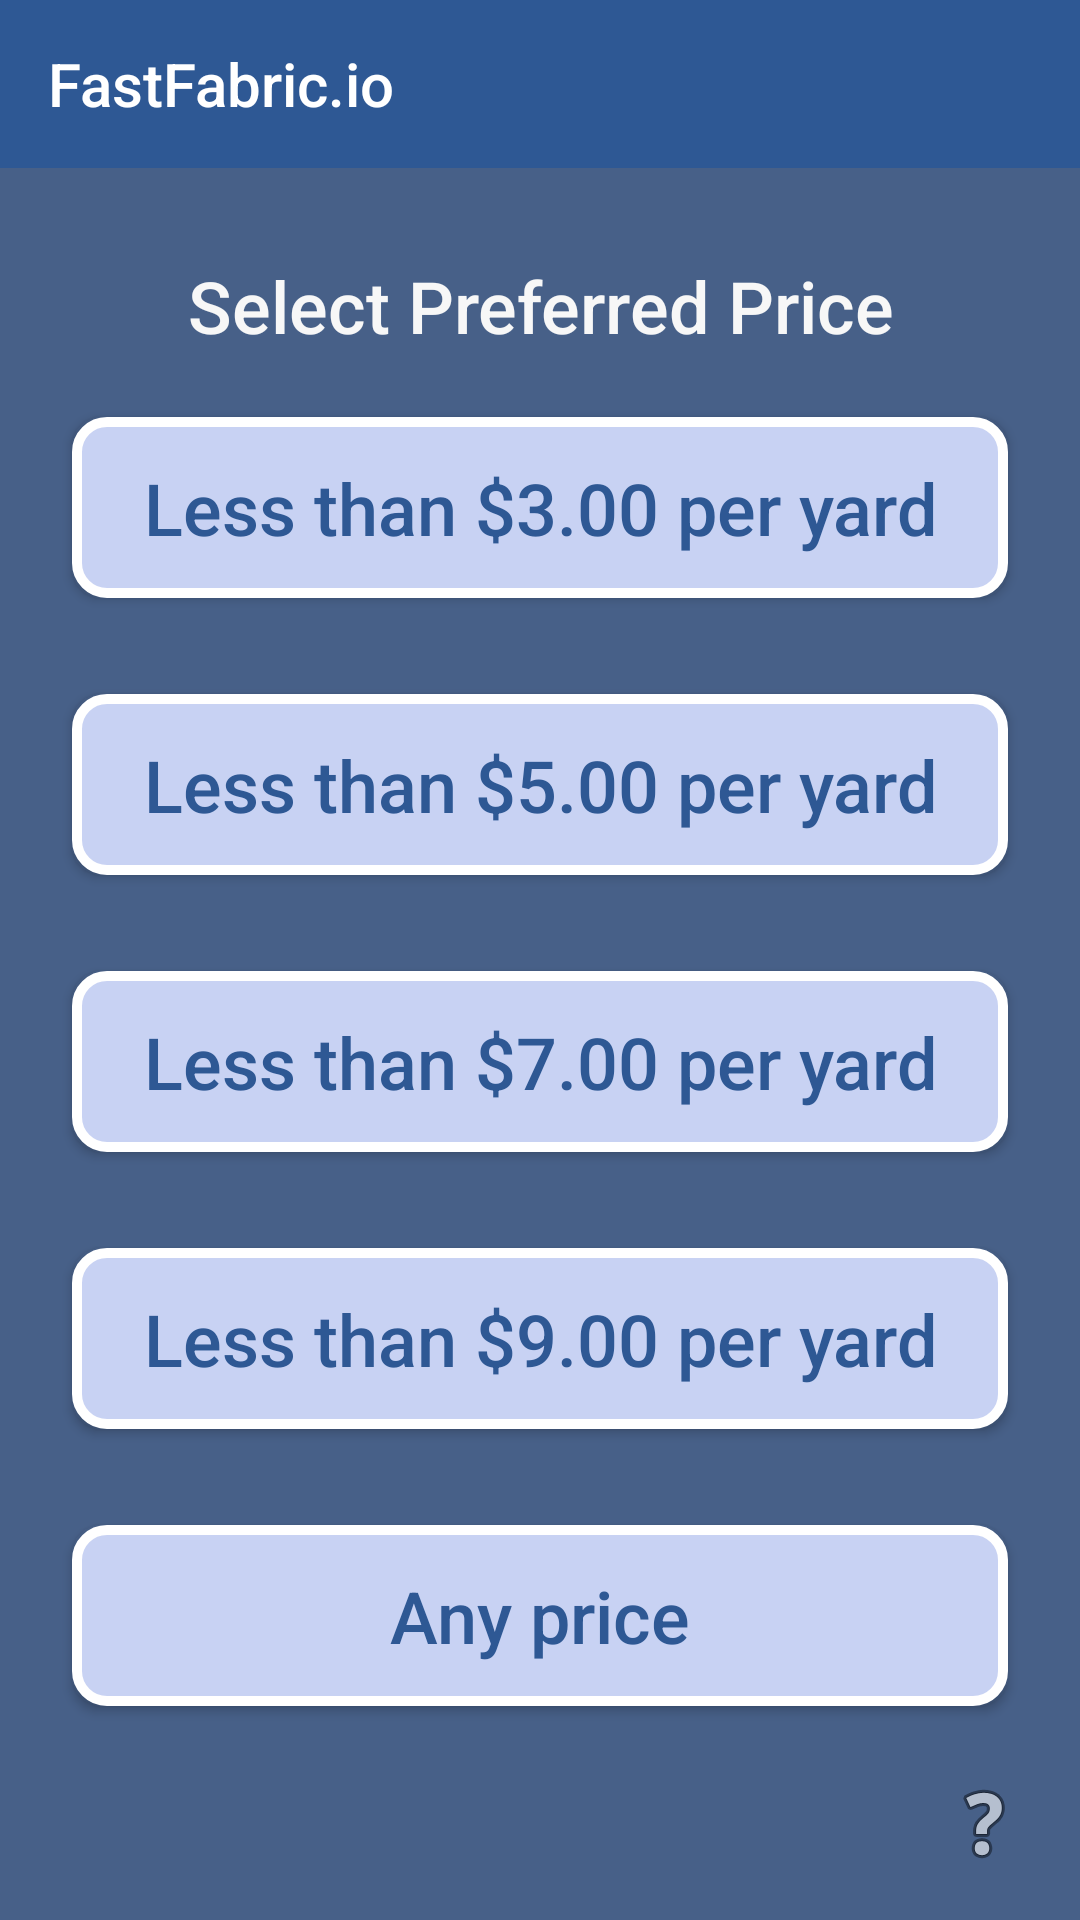

Named icons in this screenshot (1080px x 1920px) and their centers, (x,y):
help: (984,1824)
